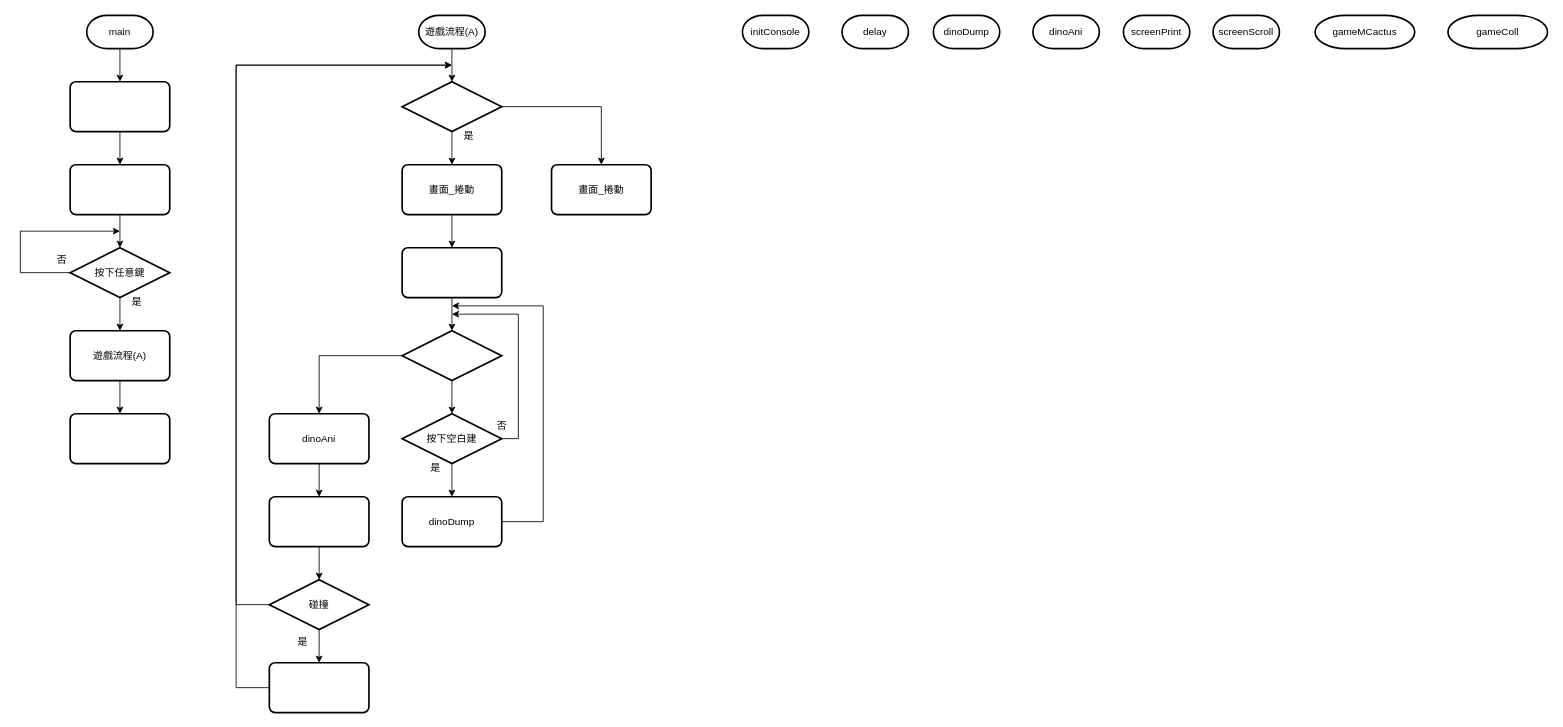
The diagram is 1563 pixels wide and 727 high, and some of its shapes have lost their labels. The centre of each missing label's shape, as x and y in pixels:
continue = 0: pixel 318 687
dinoColl: pixel 318 521
game_continue: pixel 451 106
初始化 變數 主控台: pixel 119 106
等待n秒: pixel 451 355
遊戲結束: pixel 119 438
顯示初始畫面: pixel 119 189
顯示遊戲畫面: pixel 451 272
